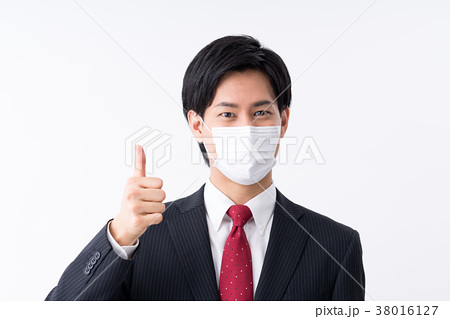mask: (206, 124, 289, 184)
